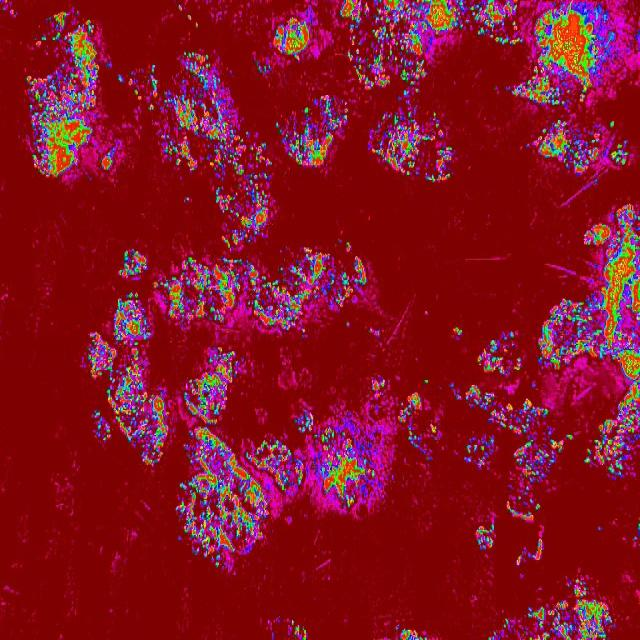fire: (168, 248, 368, 329), (86, 292, 167, 468), (176, 427, 268, 571), (140, 50, 246, 172), (24, 11, 98, 180), (520, 5, 622, 106), (584, 203, 640, 381), (314, 425, 385, 511), (370, 111, 452, 184), (276, 93, 348, 169), (341, 0, 467, 40), (213, 172, 278, 248), (185, 350, 244, 426), (348, 40, 428, 96), (582, 414, 640, 480), (530, 119, 602, 171), (539, 295, 585, 369), (565, 572, 611, 640), (512, 434, 564, 484), (469, 0, 519, 48), (476, 331, 523, 379), (494, 396, 550, 433), (267, 442, 305, 496), (522, 599, 564, 640), (273, 17, 311, 59), (449, 380, 494, 410), (506, 488, 540, 522), (466, 433, 496, 467), (118, 248, 148, 280), (514, 535, 542, 566), (616, 380, 640, 414), (397, 392, 422, 422), (406, 425, 429, 457), (116, 70, 140, 100), (472, 524, 497, 550), (487, 615, 510, 640), (610, 141, 632, 167), (98, 148, 118, 176), (396, 626, 432, 640), (294, 410, 314, 432), (252, 58, 274, 77), (369, 374, 388, 394), (290, 619, 308, 640), (504, 81, 520, 99), (186, 12, 200, 30), (152, 276, 167, 292), (402, 96, 416, 112), (632, 522, 640, 542), (450, 325, 464, 336), (431, 422, 438, 436), (343, 239, 352, 247), (184, 195, 192, 203), (176, 4, 184, 12), (608, 119, 614, 129), (566, 432, 572, 442), (424, 377, 430, 385), (592, 178, 598, 184)
